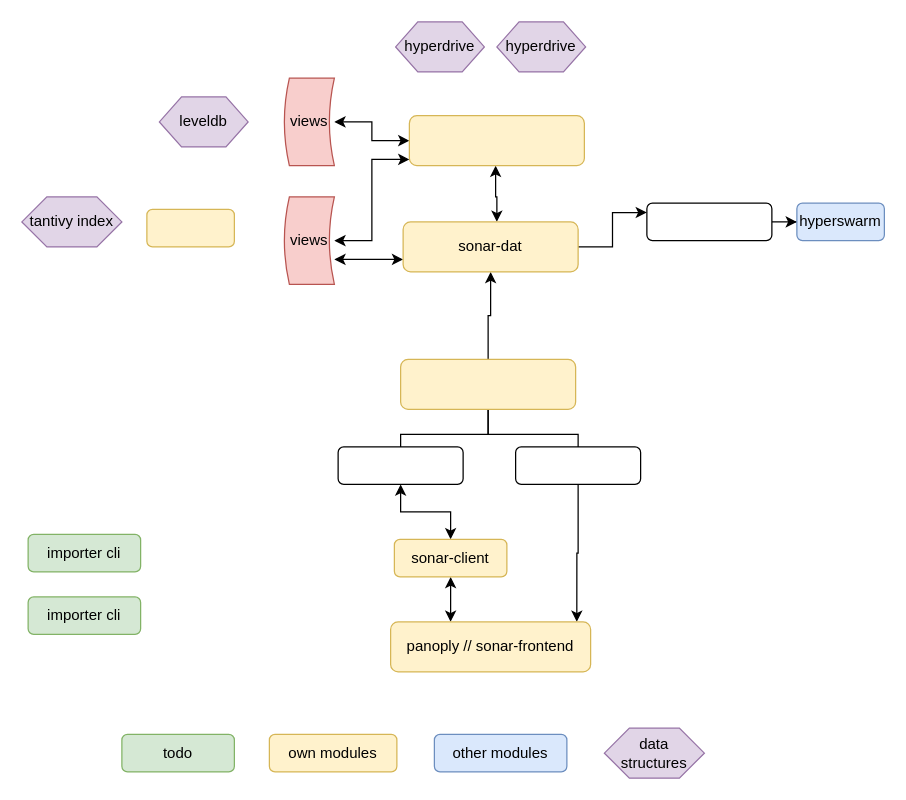
Some shapes in this 906 by 800 pixel diagram are drawn without their labels. The centre of each missing label's shape, as x and y in pixels:
"http api" goes at point 400,465.
"http static server" goes at point 577,465.
"hyper-content-db" goes at point 496,140.
"networking" goes at point 709,221.
"sonar" goes at point 190,227.
"sonar-server" goes at point 487,383.
